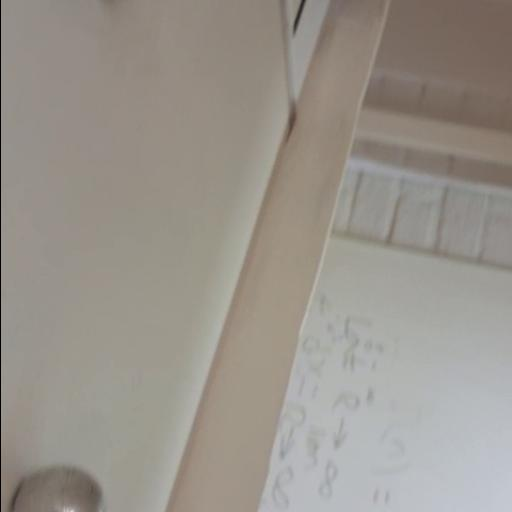alive: (10, 463, 108, 512)
